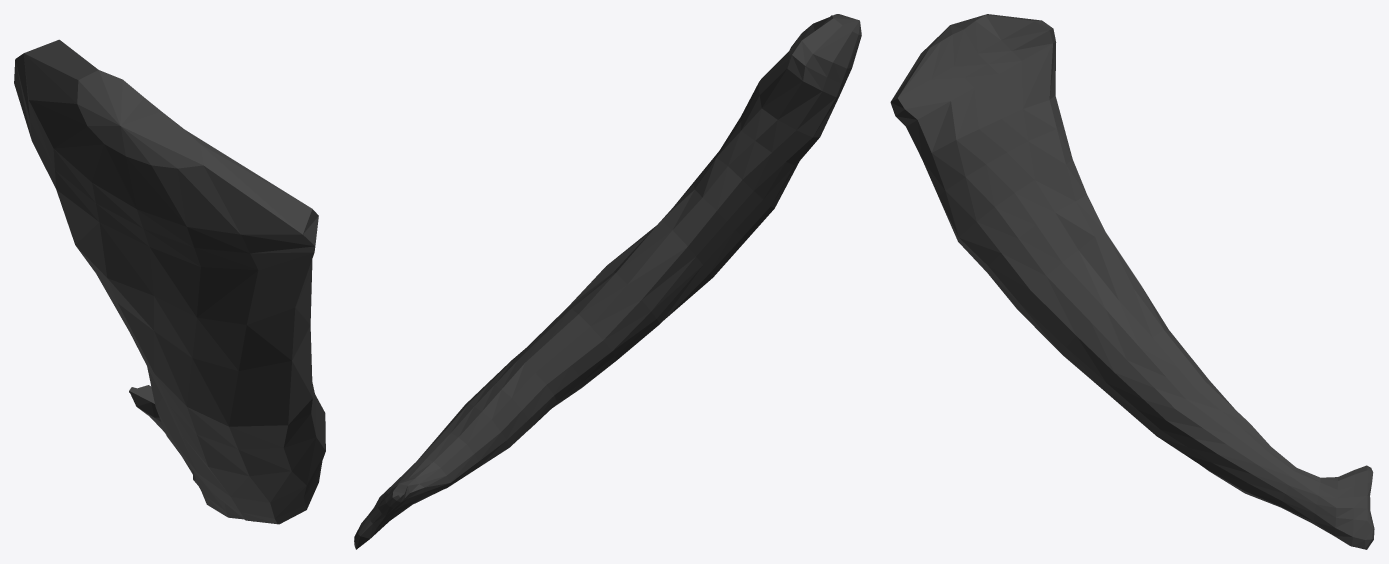
File: GluteusDeep.glb
3 views of the same model, side by side, from view 1: azimuth 30°, elevation 25°; view 2: azimuth 150°, elevation 25°; view 3: azimuth 270°, elevation 25° (orthographic). The views are drawn at different scales.
Parts seen in each view (by area): view 1: GluteusDeep; view 2: GluteusDeep; view 3: GluteusDeep.
Boxes of the visible parts, x1=… form: GluteusDeep: x1=14, y1=39, x2=325, y2=524; GluteusDeep: x1=354, y1=14, x2=861, y2=549; GluteusDeep: x1=890, y1=14, x2=1374, y2=549.
Size of the model in its own units: 1.91 by 2.79 by 2.96.
1 material, 1 textured.
